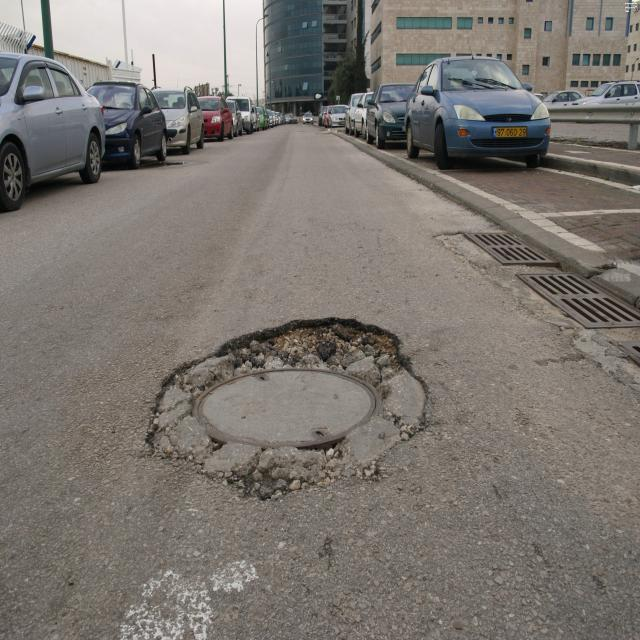major_pothole: (140, 304, 431, 512)
